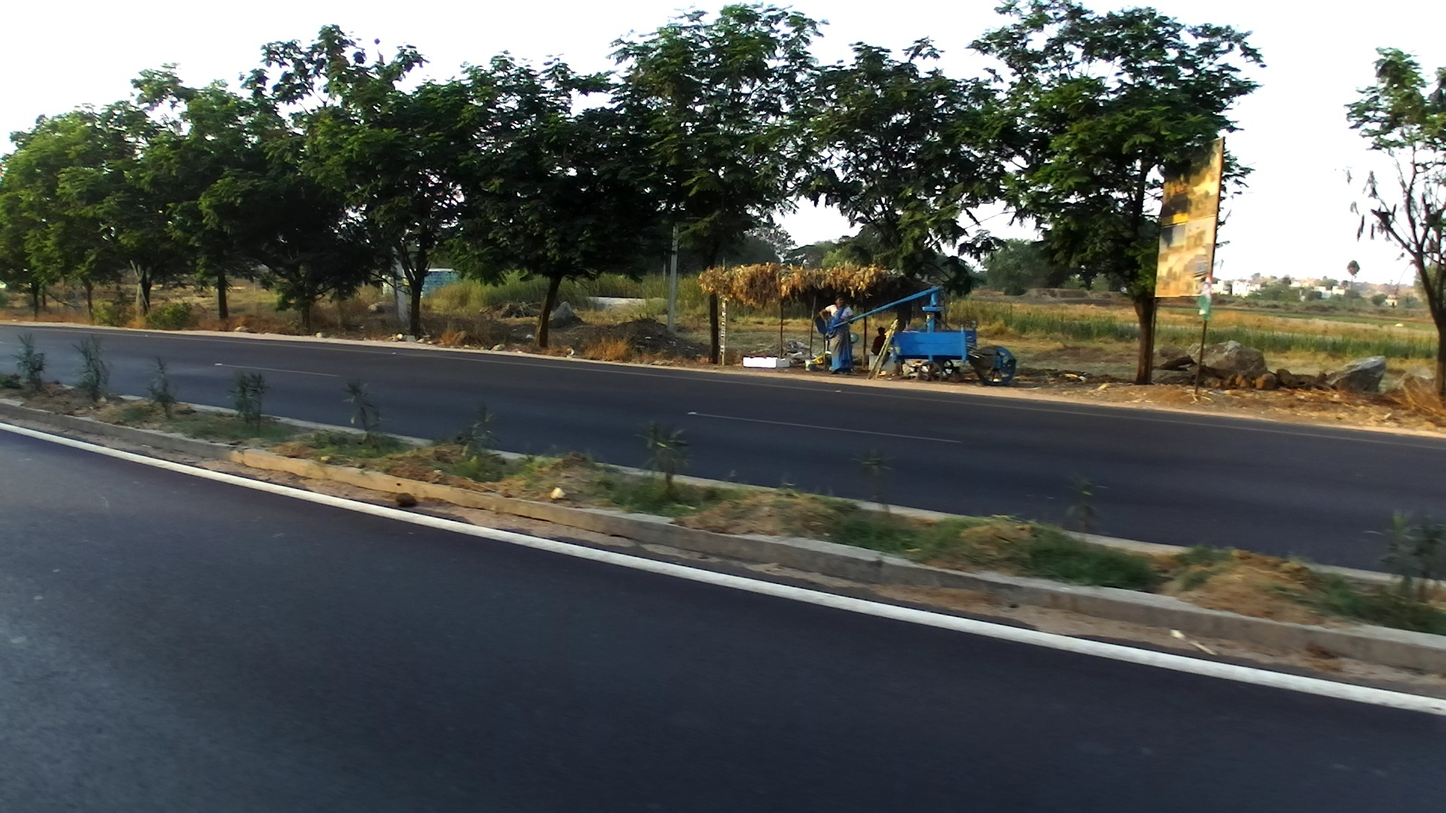person: (819, 294, 858, 373), (870, 327, 888, 361)
vehicle fallback: (836, 282, 1015, 383)
